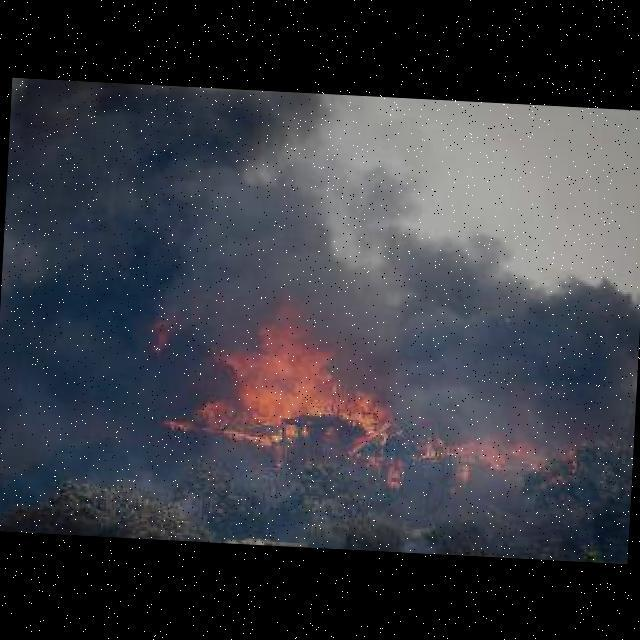Fire: (134, 281, 408, 459), (419, 419, 567, 475)
Smoke: (3, 76, 410, 324), (392, 204, 640, 440)
